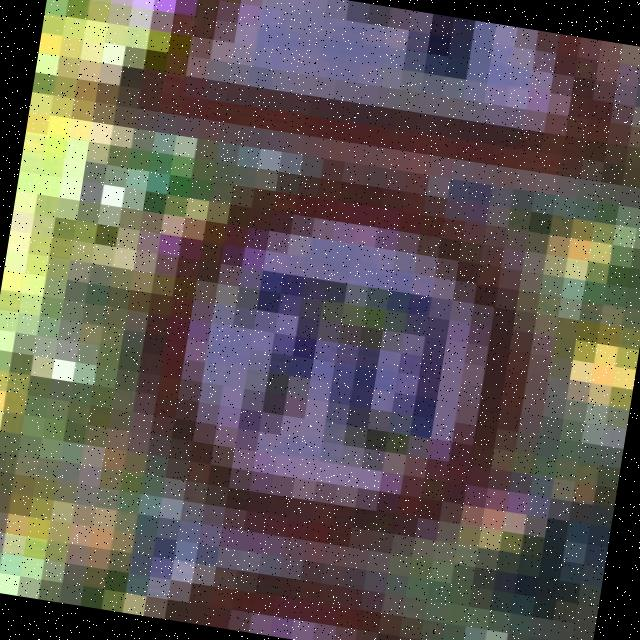Ograniczenie predkosci do 70: (116, 145, 558, 576)
